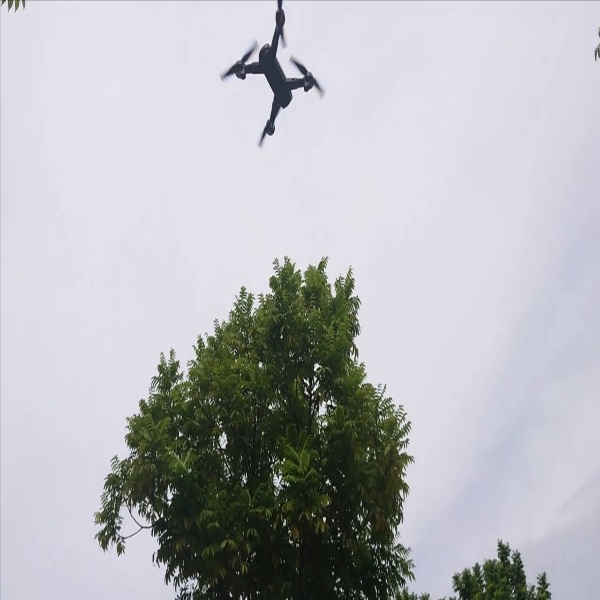drone: (217, 1, 334, 152)
